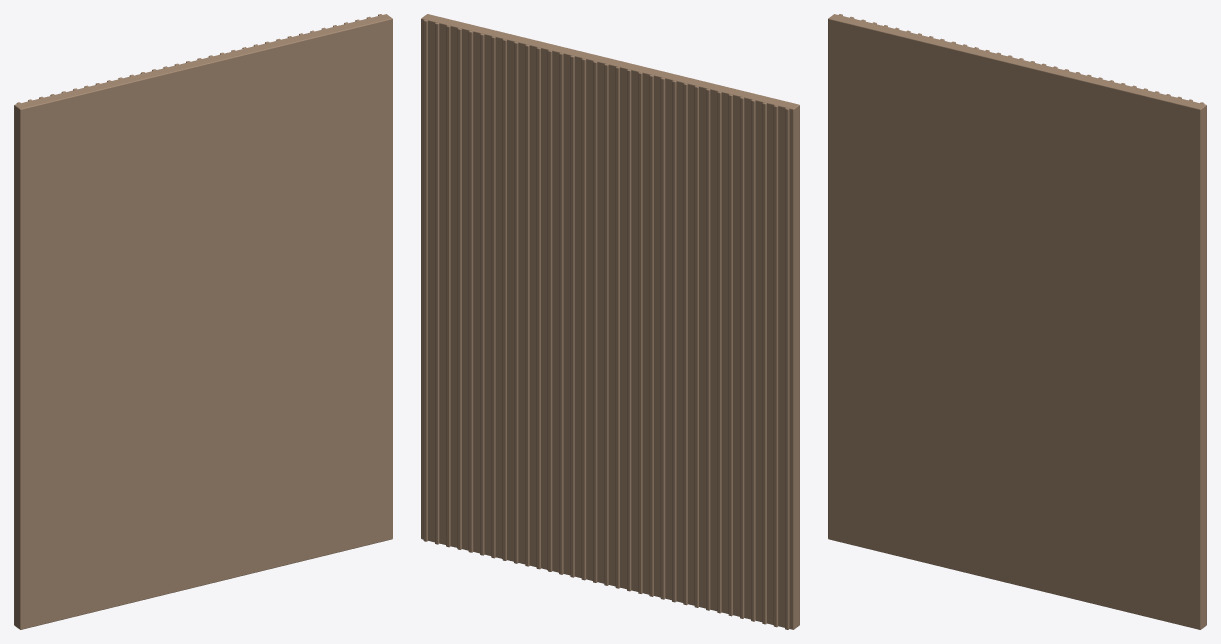
File: DOOR_SINGLE_600x800.glb
3 views of the same model, side by side, from view 1: azimuth 30°, elevation 25°; view 2: azimuth 150°, elevation 25°; view 3: azimuth 330°, elevation 25° (orthographic).
Parts seen in each view (by area): view 1: front_panel_01; view 2: front_panel_01, front_panel_01_rib_012, front_panel_01_rib_019, front_panel_01_rib_002, front_panel_01_rib_029, front_panel_01_rib_022, front_panel_01_rib_011, front_panel_01_rib_015, front_panel_01_rib_016, front_panel_01_rib_017, front_panel_01_rib_031, front_panel_01_rib_032 (+22 smaller); view 3: front_panel_01.
Boxes of the visible parts, left/top/right/bottom form: front_panel_01: left=14, top=14, right=392, bottom=629; front_panel_01: left=421, top=14, right=799, bottom=629; front_panel_01_rib_012: left=660, top=77, right=665, bottom=599; front_panel_01_rib_019: left=581, top=58, right=586, bottom=580; front_panel_01_rib_002: left=773, top=105, right=778, bottom=627; front_panel_01_rib_029: left=468, top=30, right=473, bottom=552; front_panel_01_rib_022: left=547, top=50, right=552, bottom=571; front_panel_01_rib_011: left=672, top=80, right=676, bottom=602; front_panel_01_rib_015: left=627, top=69, right=631, bottom=591; front_panel_01_rib_016: left=615, top=66, right=619, bottom=588; front_panel_01_rib_017: left=604, top=63, right=608, bottom=585; front_panel_01_rib_031: left=446, top=25, right=450, bottom=547; front_panel_01_rib_032: left=435, top=22, right=439, bottom=544; front_panel_01: left=828, top=14, right=1206, bottom=629.
Size of the model in its own units: 0.596 by 0.796 by 0.022.
